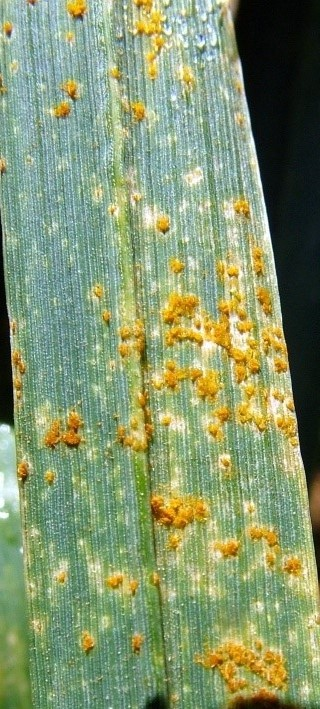Leaf Rust: (17, 234, 320, 689)
